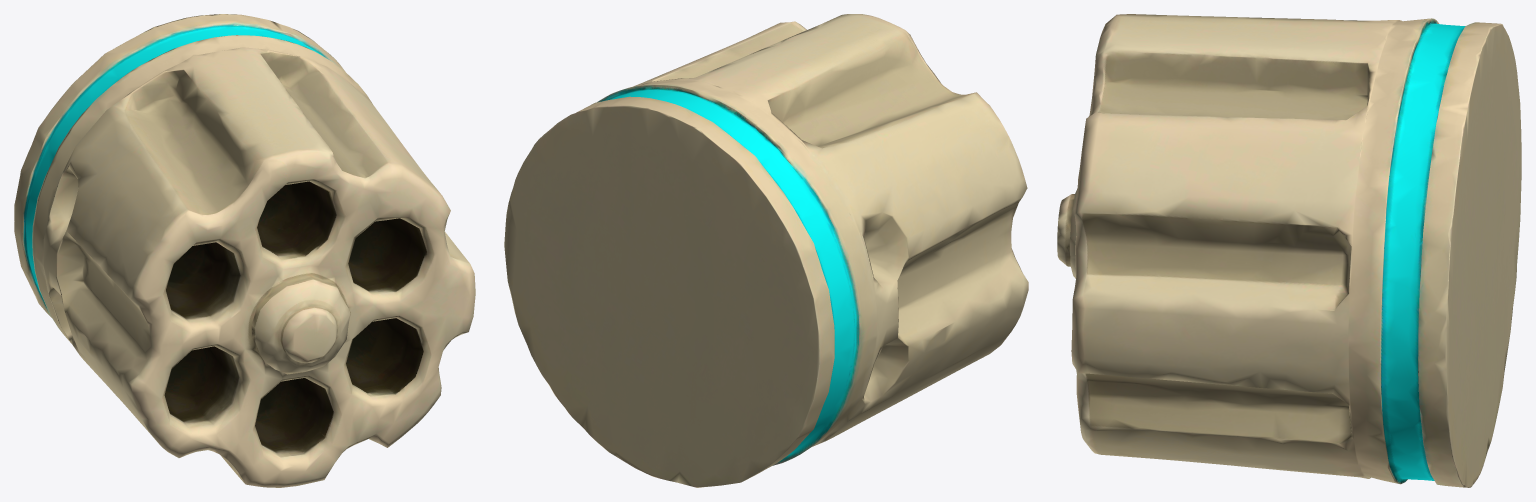
Rendered from kestrel-cylinder.fbx.
3 views of the same model, side by side, from view 1: azimuth 30°, elevation 25°; view 2: azimuth 150°, elevation 25°; view 3: azimuth 270°, elevation 25° (orthographic). The views are drawn at different scales.
Visible parts, largest first — view 1: tripo_node_9b15d1cf; view 2: tripo_node_9b15d1cf; view 3: tripo_node_9b15d1cf.
Boxes of the visible parts, box(x1,y1,x2,y2) form: tripo_node_9b15d1cf: box(14, 14, 475, 487); tripo_node_9b15d1cf: box(504, 14, 1028, 487); tripo_node_9b15d1cf: box(1057, 14, 1521, 487).
Size of the model in its own units: 0.9793 by 0.8825 by 0.8804.
